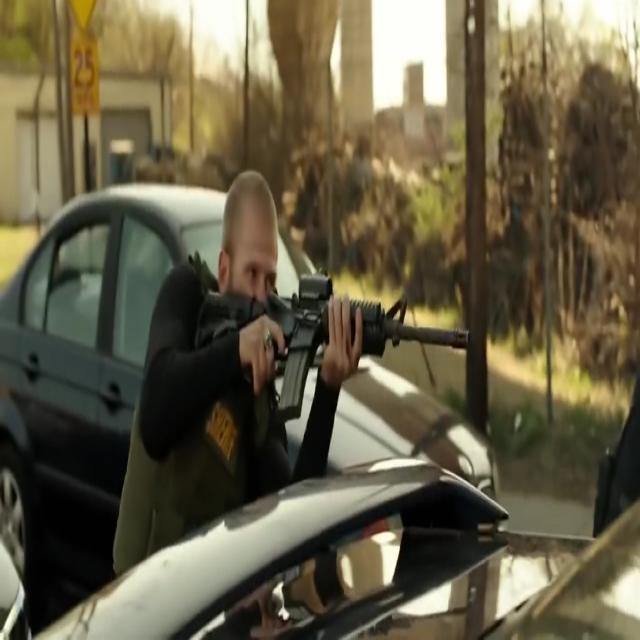Weapon: (256, 274, 475, 422)
